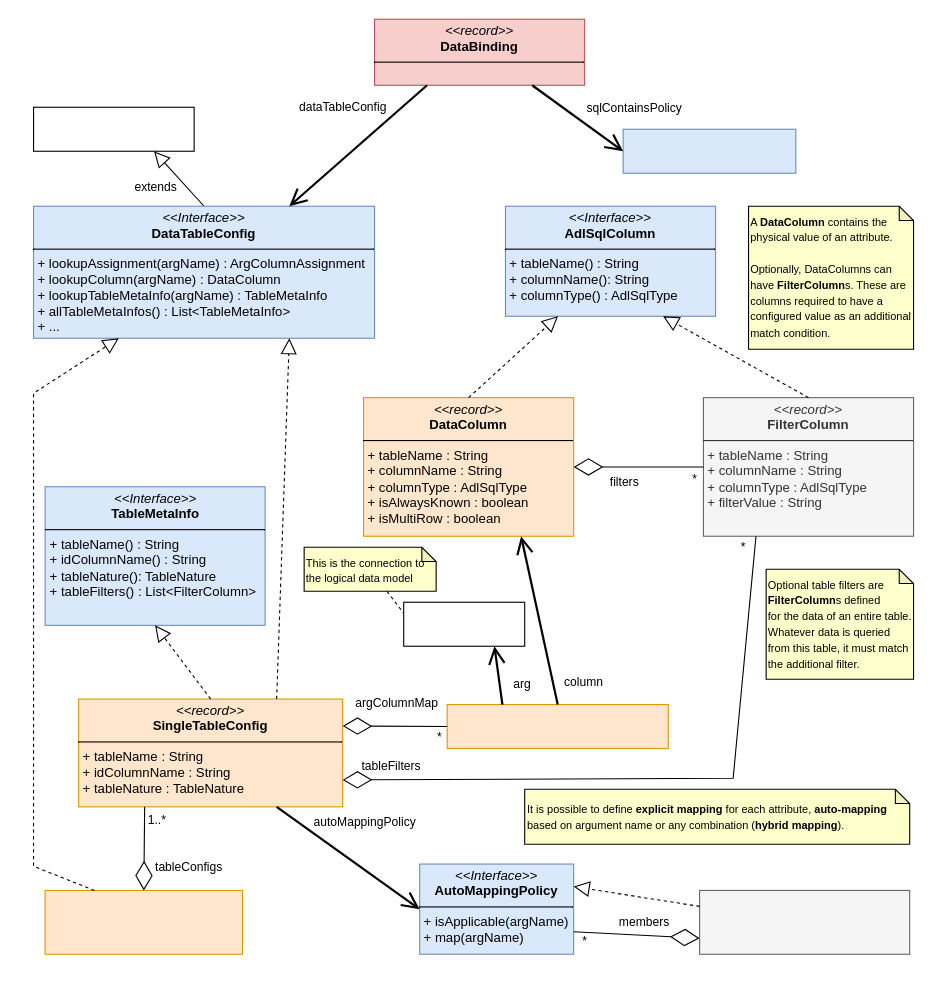
This 933x987 diagram has some shape labels left out. Here are the shapes that lost their labels. From the top down, the centre of each, then its label:
[113,128]: <<Interface>> ArgMetaInfoLookup
[709,150]: <<Interface>> SqlContainsPolicy
[464,623]: <<Interface>> ArgMetaInfo
[557,726]: <<record>> ArgColumnAssignment
[143,921]: <<record>> MultiTableConfig
[804,921]: <<record>> CompositeAutomappingPolicy
